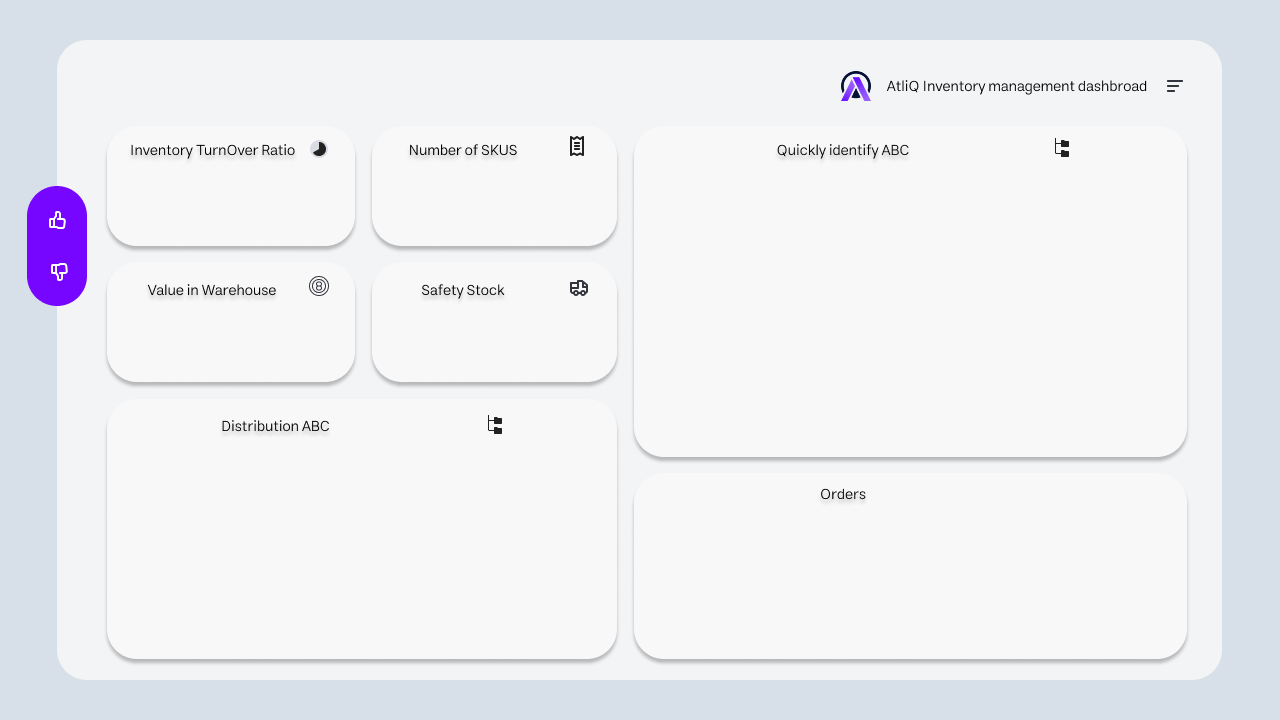

The page's visual inventory and layout, read from the dashboard file:
{"tool":"tableau","page":{"name":"儀表板 3","canvas":[1280,720],"ordinal":0},"visuals":[{"type":"image","param":"/Users/kevinleungch421/Desktop/Untitled (3)/TV - 1.png","box":[8,8,1264,704]},{"type":"worksheet","title":"Turn over ratio","mark":"Text","box":[120,173,247,89]},{"type":"worksheet","title":"Inventory Total","mark":"Automatic","box":[384,175,247,86]},{"type":"worksheet","title":"Quick ABC","mark":"Circle","box":[645,176,555,294]},{"type":"worksheet","title":"Transparent header","mark":"Shape","rows":["Calculation_4988651397054390285"],"box":[24,206,94,105]},{"type":"worksheet","title":"Safety Storck","mark":"Automatic","box":[383,309,247,85]},{"type":"worksheet","title":"Cost of inventory","mark":"Automatic","box":[118,311,249,84]},{"type":"worksheet","title":"abc analysis on revenue","mark":"Circle","rows":["Cumulative Reneue Share %"],"cols":["ABC_Rank"],"box":[119,450,510,222]},{"type":"worksheet","title":"Order Details","mark":"Automatic","rows":["ABC (revenue.csv)","ABC (turn_over.csv)","SKU ID (revenue.csv)"],"box":[647,516,552,154]}]}

Visuals, with their boxes in screenshot pixels (x1, y1, x2, y2), scaled from the page's 1280x720 canvas onto the 1280x720 screenshot:
image: <region>8, 8, 1272, 712</region>
"Turn over ratio" worksheet (Text marks): <region>120, 173, 367, 262</region>
"Inventory Total" worksheet: <region>384, 175, 631, 261</region>
"Quick ABC" worksheet (Circle marks): <region>645, 176, 1200, 470</region>
"Transparent header" worksheet (Shape marks): <region>24, 206, 118, 311</region>
"Safety Storck" worksheet: <region>383, 309, 630, 394</region>
"Cost of inventory" worksheet: <region>118, 311, 367, 395</region>
"abc analysis on revenue" worksheet (Circle marks): <region>119, 450, 629, 672</region>
"Order Details" worksheet: <region>647, 516, 1199, 670</region>
